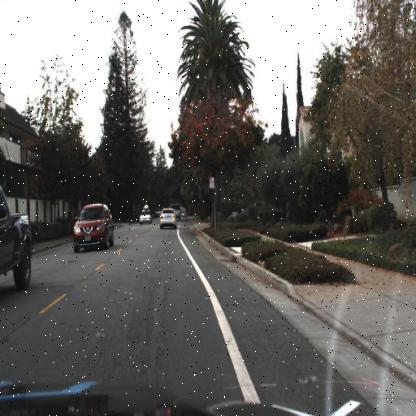car: (0, 180, 33, 300), (70, 200, 116, 255), (158, 204, 178, 230), (138, 201, 154, 226), (168, 201, 182, 222)
